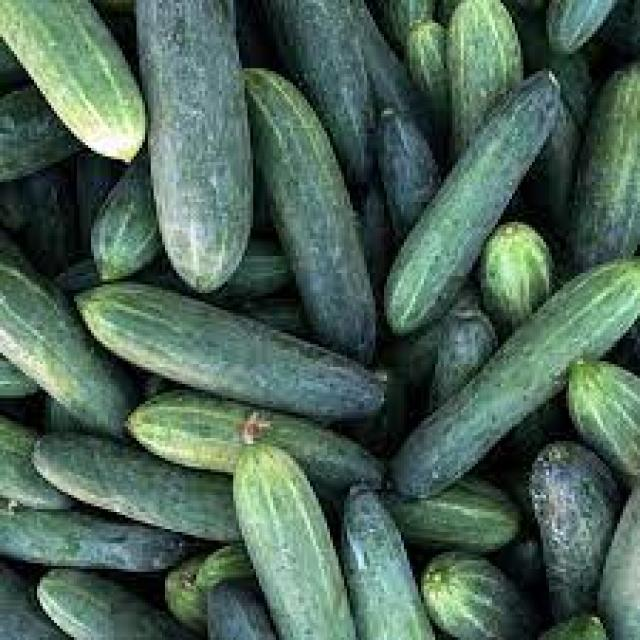Pickle: (392, 259, 640, 498), (385, 71, 561, 334), (76, 284, 385, 421), (247, 69, 375, 361), (138, 0, 252, 292), (129, 391, 384, 493), (234, 445, 356, 639), (35, 432, 236, 541), (267, 0, 374, 184), (341, 485, 435, 639), (530, 441, 620, 594), (574, 62, 640, 268), (0, 508, 199, 572), (38, 569, 199, 640), (449, 0, 522, 154), (91, 155, 161, 281), (481, 221, 551, 336), (573, 361, 640, 477)
